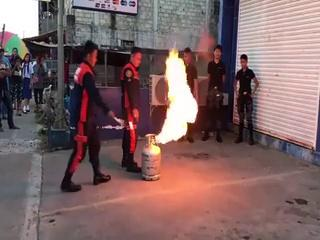Fire: (152, 43, 200, 144)
